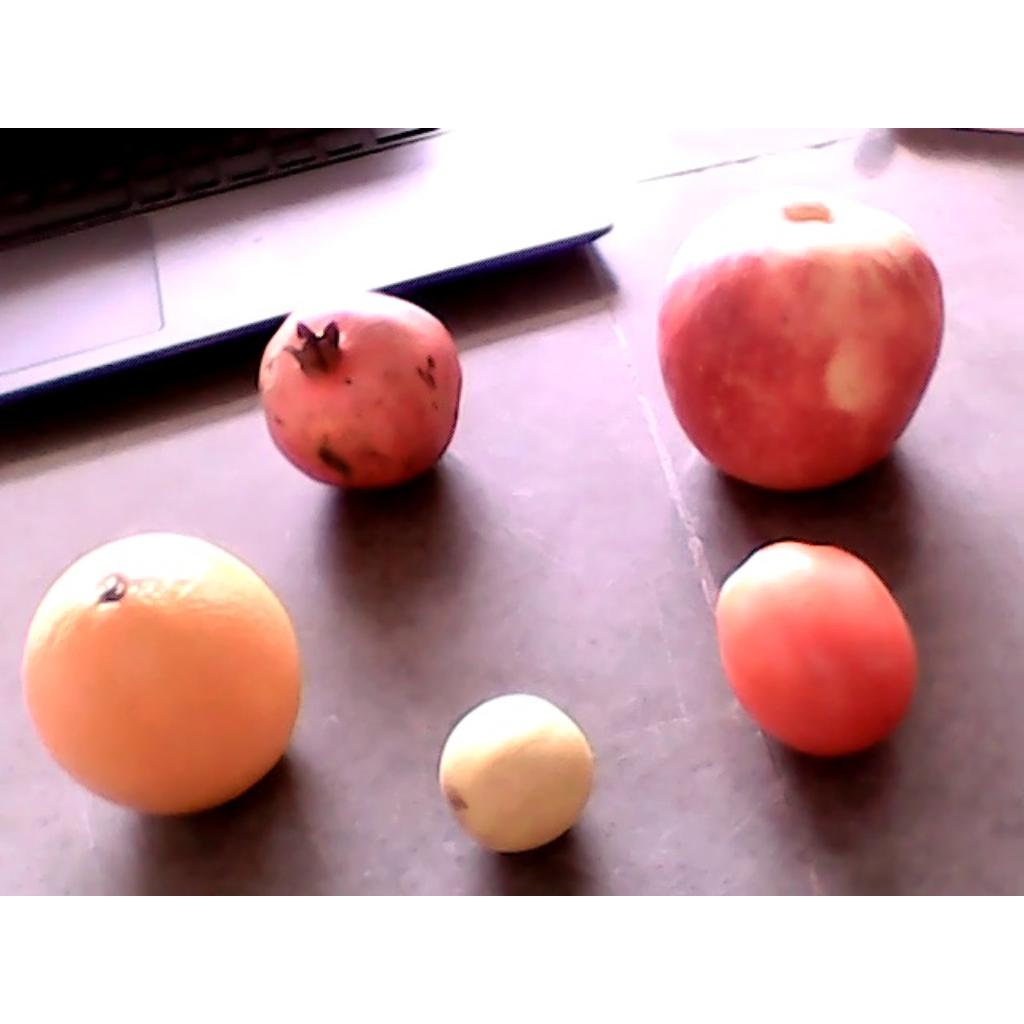apple: (655, 187, 948, 493)
lemon: (440, 690, 593, 852)
orange: (20, 530, 303, 812)
pomegranate: (260, 290, 466, 487)
tomato: (712, 538, 919, 754)
